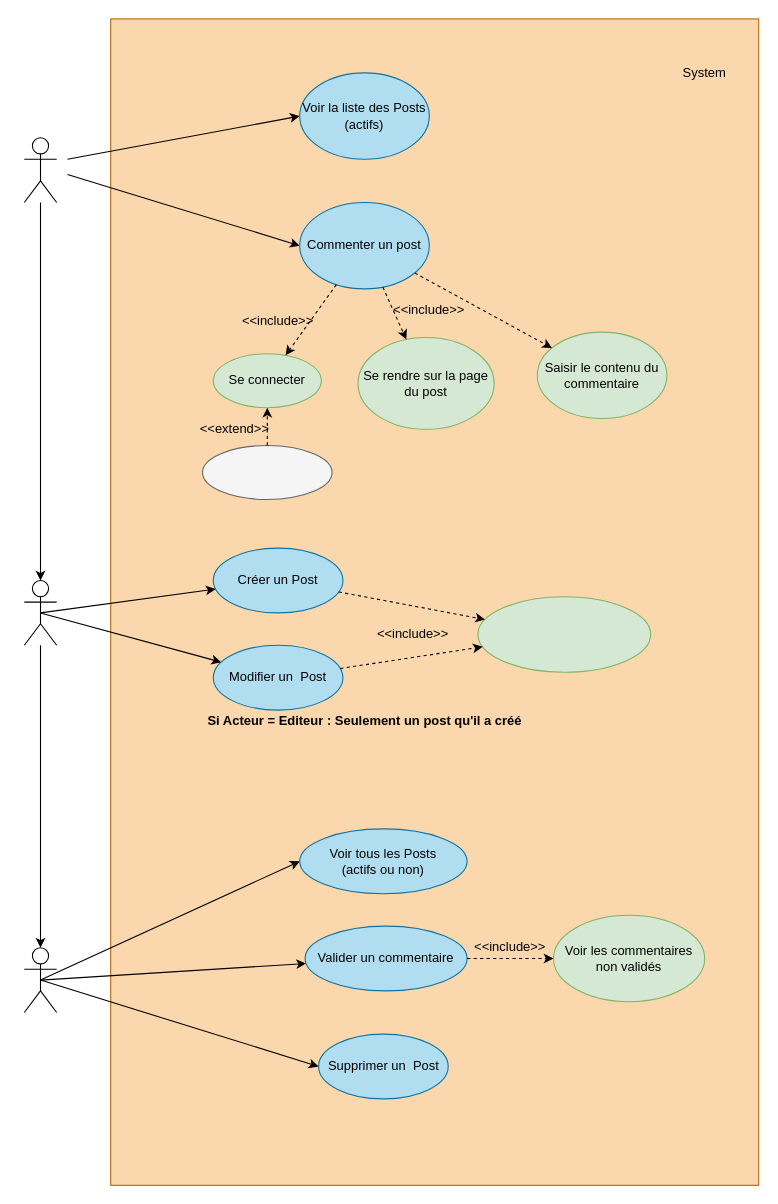
This 778x1204 diagram has some shape labels left out. Here are the shapes that lost their labels. From the top down, the centre of each, then its label:
At (40,169): "Visiteur".
At (266,472): "Créer un compte".
At (40,612): "Editeur".
At (564,634): "Definir les attributs (Titre, contenu, châpo, date,etc...)".
At (40,980): "Admin".
